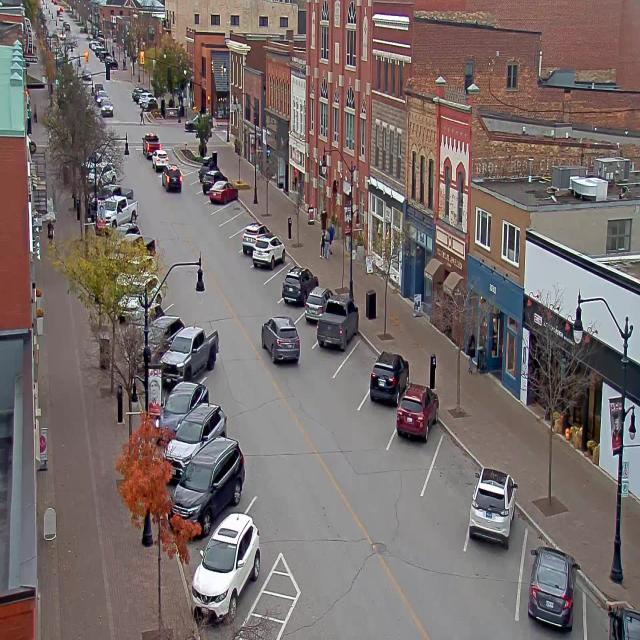available: (428, 426, 482, 511), (342, 333, 378, 391), (264, 262, 291, 300), (212, 203, 245, 219), (220, 215, 253, 230), (228, 228, 244, 252), (184, 168, 200, 186)
occupied: (169, 435, 245, 538), (193, 517, 269, 603), (164, 398, 234, 462), (526, 545, 578, 631), (468, 466, 518, 548), (158, 324, 219, 386), (154, 381, 208, 442), (588, 588, 639, 639), (316, 296, 358, 352), (368, 350, 409, 406), (398, 387, 434, 444), (282, 264, 318, 305), (252, 233, 284, 270), (240, 223, 272, 260), (302, 289, 332, 327), (209, 179, 237, 204), (196, 157, 220, 180), (201, 170, 223, 193)
